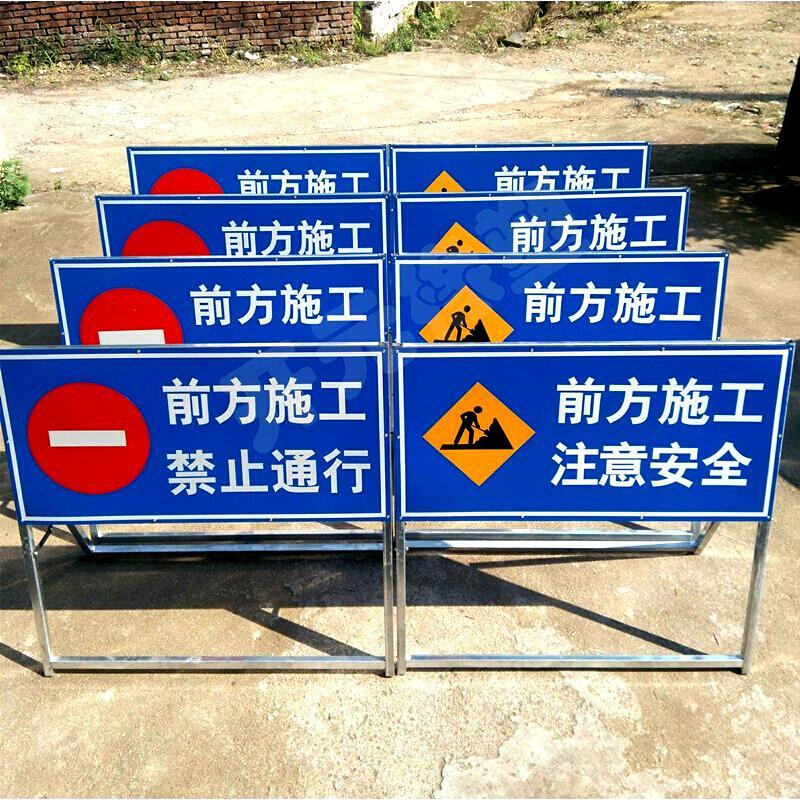sign: (399, 345, 793, 522), (2, 346, 379, 519), (394, 258, 724, 346), (51, 259, 382, 346), (396, 191, 683, 251), (97, 197, 389, 254), (128, 146, 383, 202), (391, 146, 651, 197)
